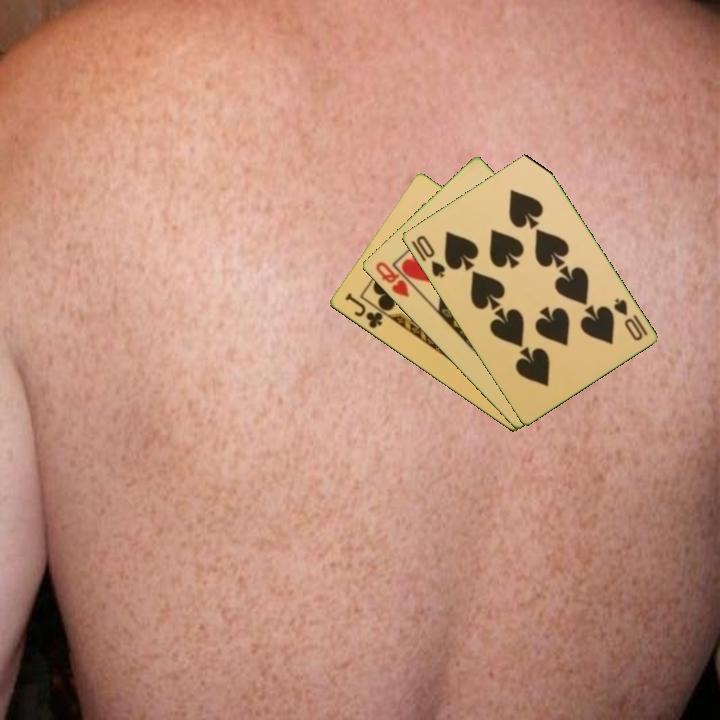10s: (609, 295, 650, 344), (412, 232, 448, 281)
Jc: (341, 289, 385, 332)
Qh: (372, 258, 412, 300)
